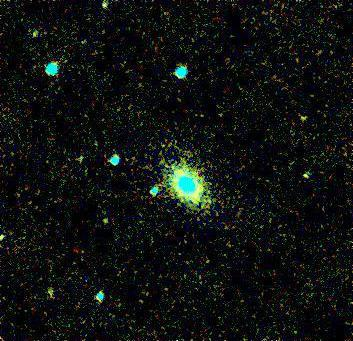star: (91, 203, 121, 233)
